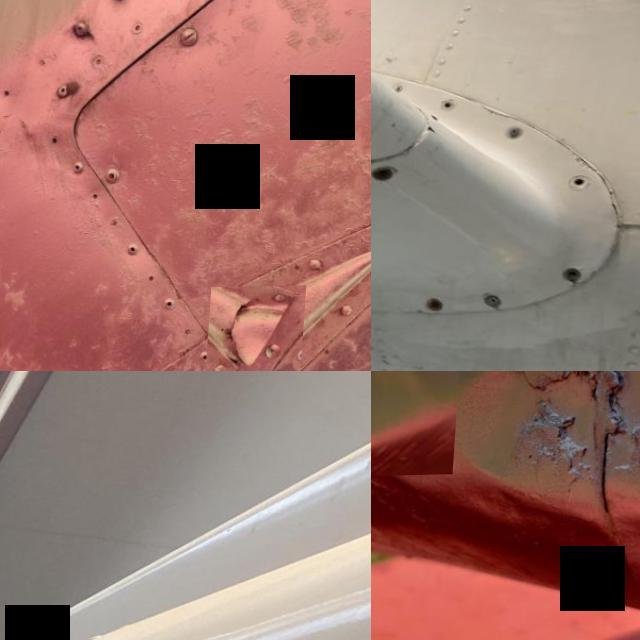Crack: (211, 286, 311, 371), (570, 147, 602, 172), (475, 105, 521, 122), (606, 191, 626, 220), (425, 126, 442, 140)
Dent: (371, 371, 466, 480)
Missing_Fastener: (566, 266, 592, 284), (372, 168, 400, 183), (570, 177, 592, 193), (434, 298, 451, 313), (444, 102, 459, 114)
